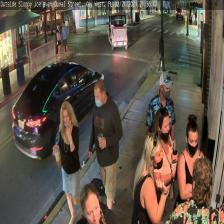person: (88, 80, 124, 222), (165, 156, 224, 223), (146, 71, 174, 201), (176, 112, 208, 224), (54, 102, 83, 222), (148, 107, 177, 223), (131, 134, 167, 223), (76, 182, 116, 224)
